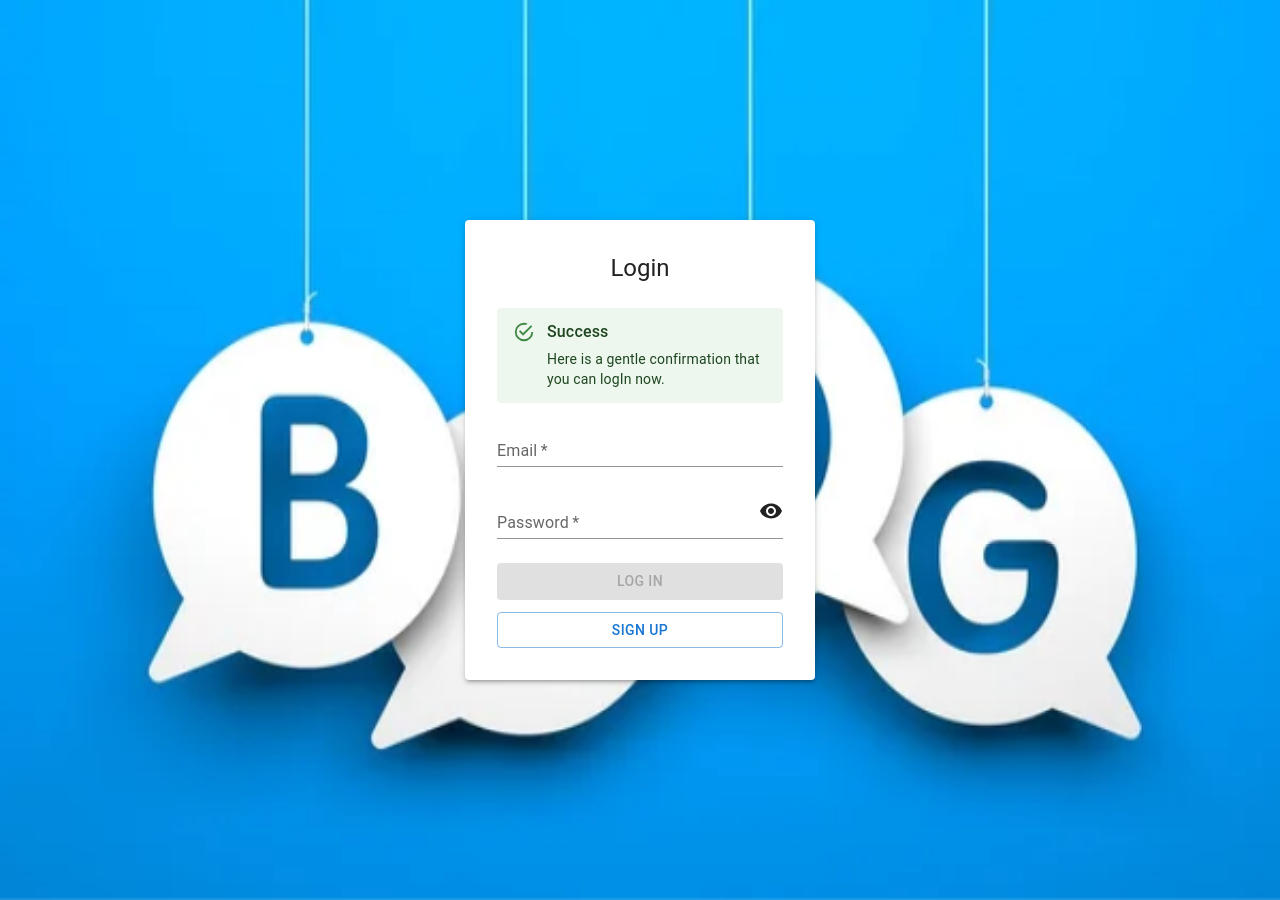
Test: LoginPage Component › displays an error message when login fails
In the field labelled "Email *": (640,451) [497,435,783,467], type "test@example.com"
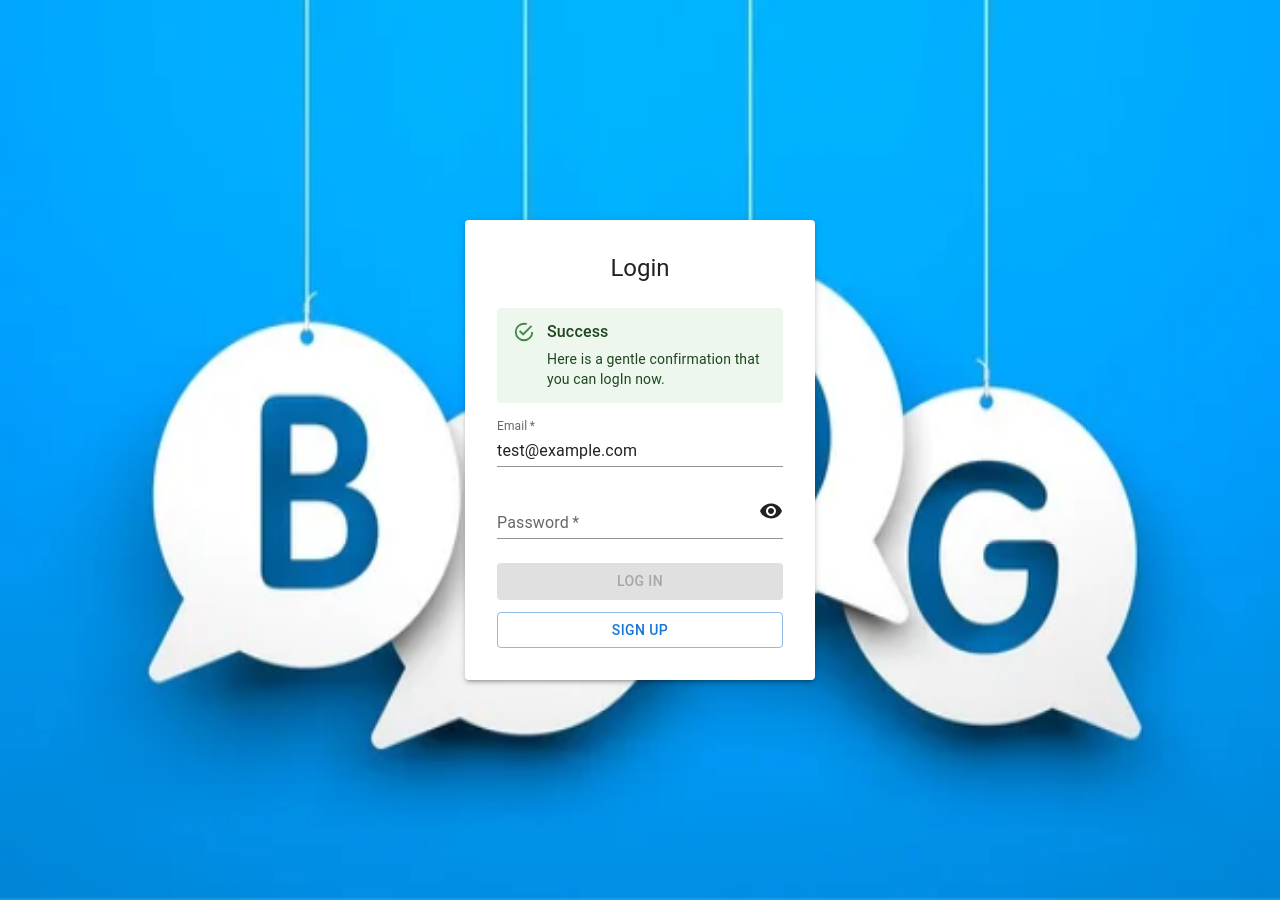
In the password field labelled "Password *": (640,523) [497,507,783,539], type "wrongpassword"
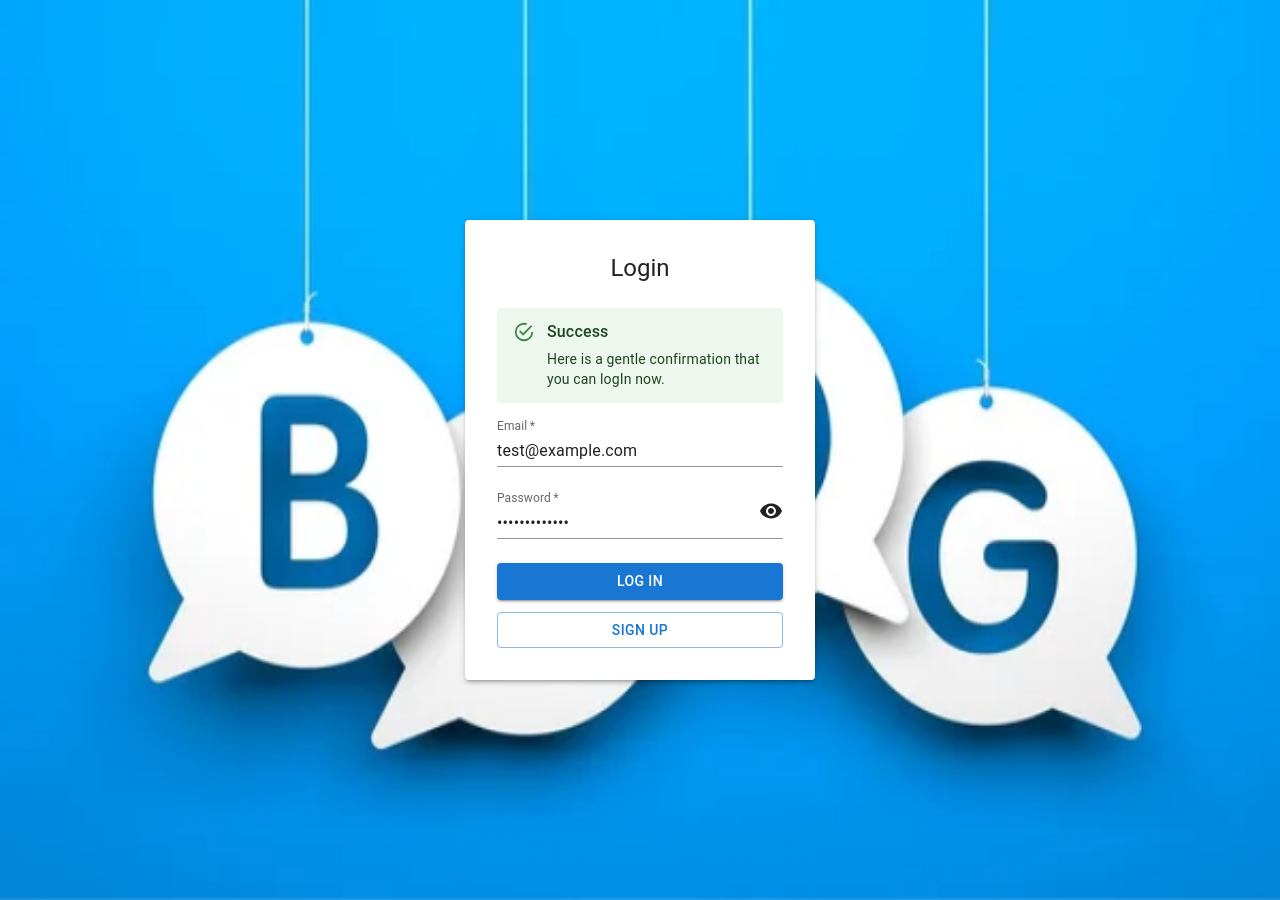
Submit the form with test id "form", box [497,308,783,648]
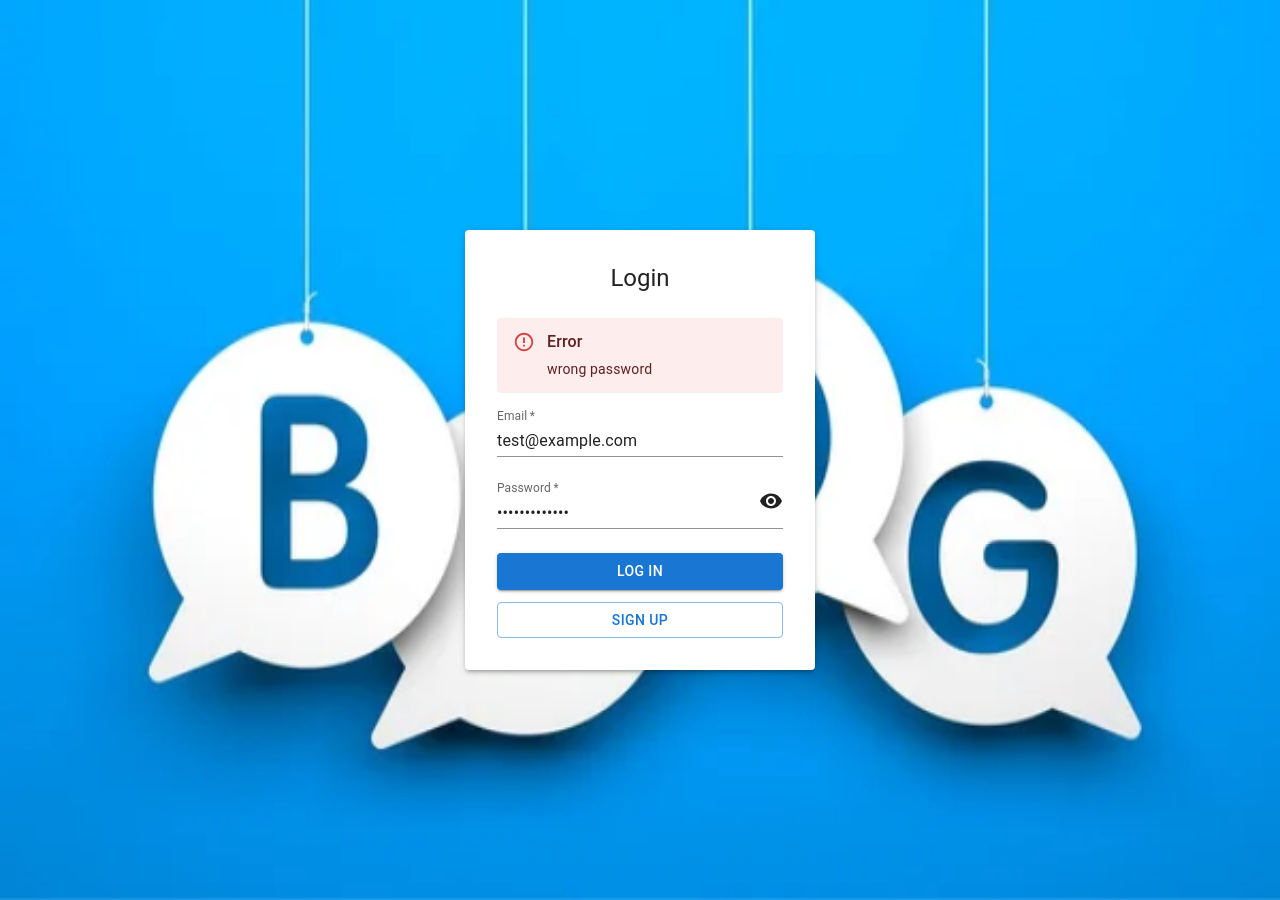
Expected: the text "Error wrong password" is shown, [547,324,652,387]
